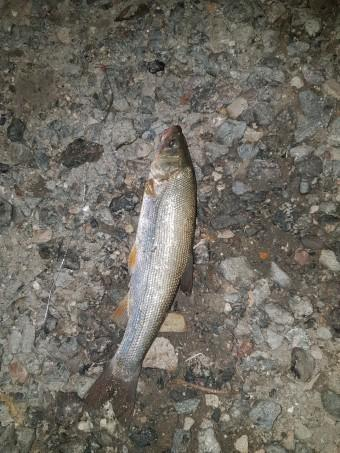fish: (86, 126, 196, 416)
